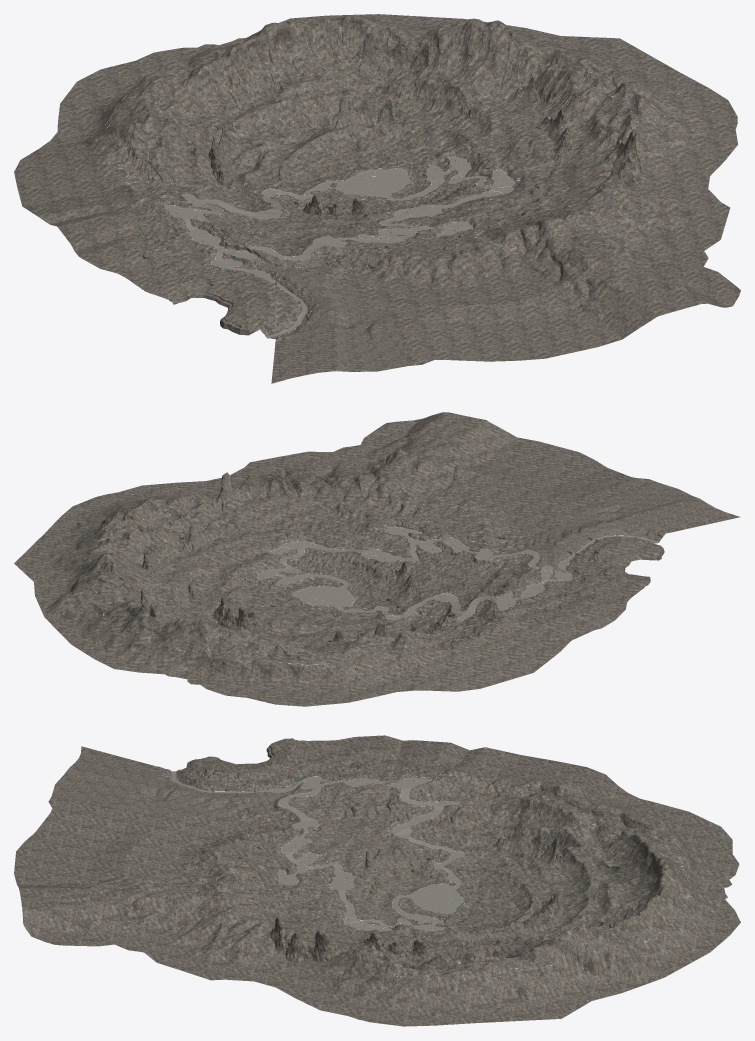
File: Osgiliath.glb
3 renders of one model, top to bottom at view 1: azimuth 30°, elevation 25°; view 2: azimuth 150°, elevation 25°; view 3: azimuth 270°, elevation 25°, orthographic. The views are drawn at different scales.
Parts seen in each view (by area): view 1: polySurface30, Group4906.007, Group4906.004, Group4906, Group4906.003, Group4906.001, Group4906.002; view 2: polySurface30, Group4906.004, Group4906.001, Group4906, Group4906.002; view 3: polySurface30, Group4906.004, Group4906.003, Group4906.002, Group4906, Group4906.001.
Boxes of the visible parts, x1,y1,x2,y2 form: polySurface30: (14, 14, 740, 383); Group4906.007: (345, 32, 434, 72); Group4906.004: (593, 128, 648, 204); Group4906: (322, 96, 403, 129); Group4906.003: (208, 125, 244, 185); Group4906.001: (536, 109, 573, 163); Group4906.002: (302, 195, 378, 224); polySurface30: (14, 412, 740, 706); Group4906.004: (211, 470, 296, 512); Group4906.001: (182, 515, 248, 552); Group4906: (213, 597, 263, 631); Group4906.002: (388, 561, 417, 604); polySurface30: (14, 735, 740, 1026); Group4906.004: (270, 917, 360, 963); Group4906.003: (493, 821, 562, 865); Group4906.002: (365, 841, 420, 871); Group4906: (522, 890, 564, 931); Group4906.001: (363, 932, 443, 957).
Size of what is drawn, in the model's own units: 1015 by 155 by 1110.
200 materials, 200 textured.
